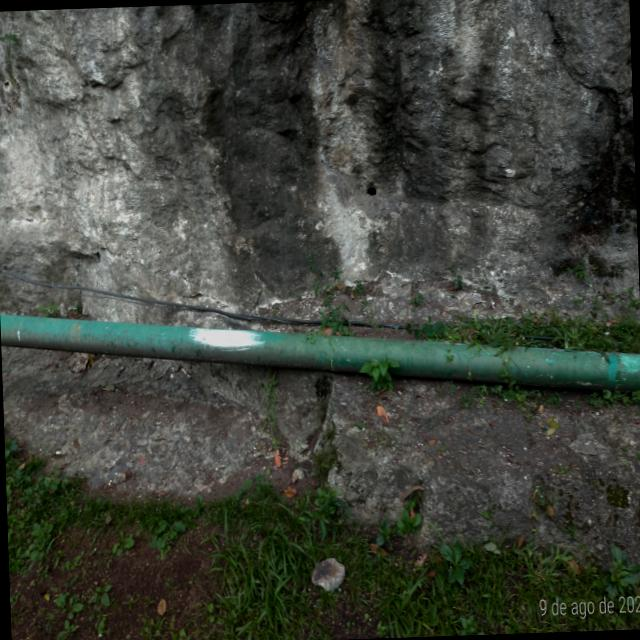gas: (0, 289, 640, 418)
